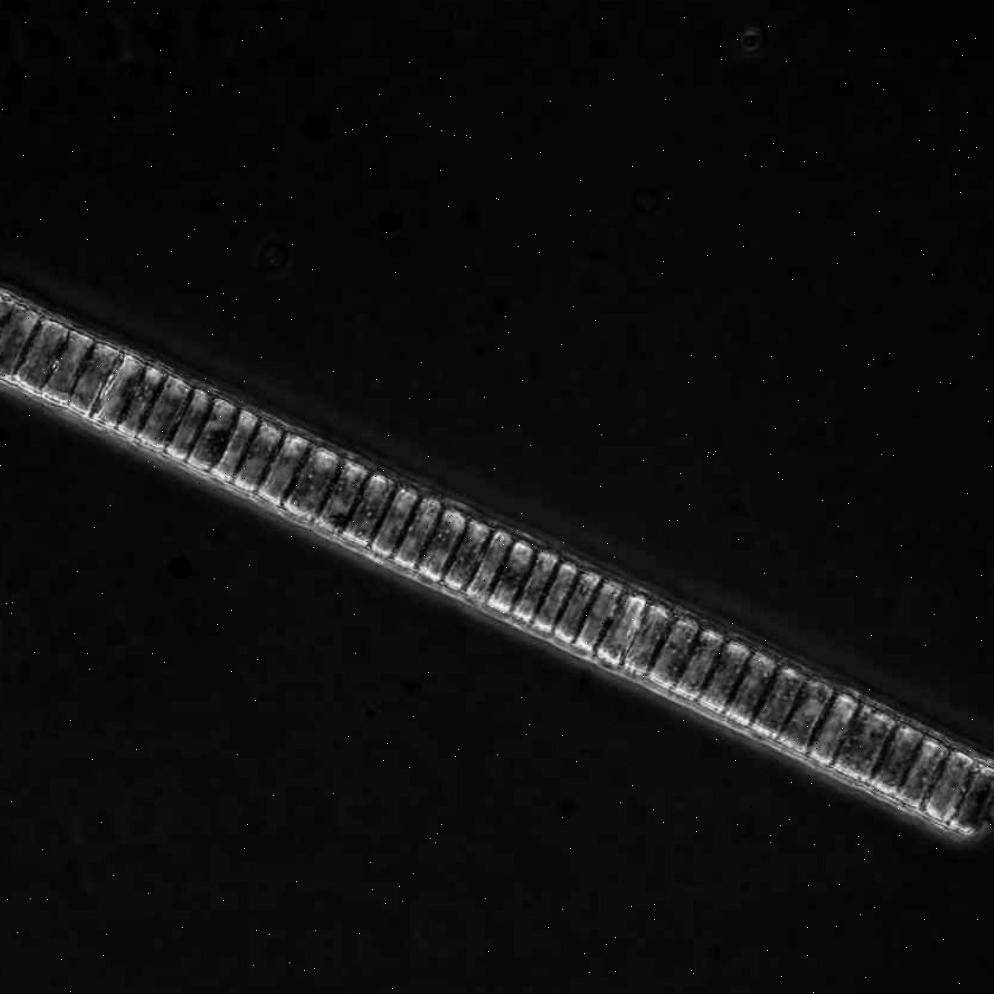trichodesmium_erythraeum: (0, 286, 994, 838)
